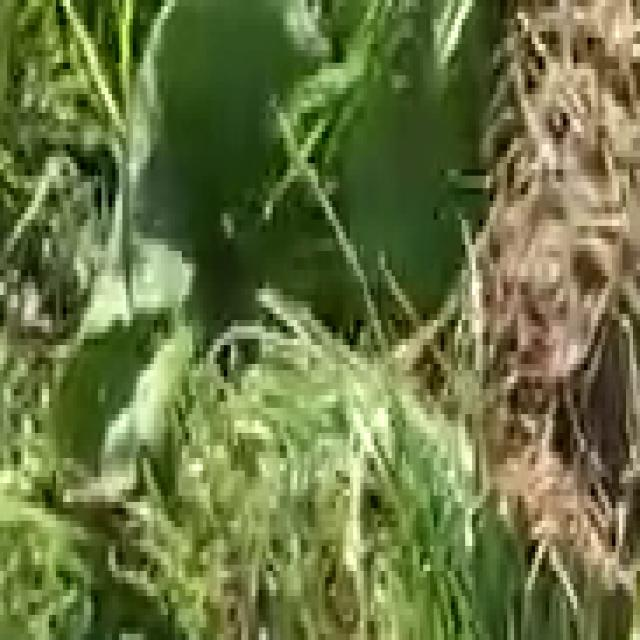organic waste: (63, 0, 532, 502)
